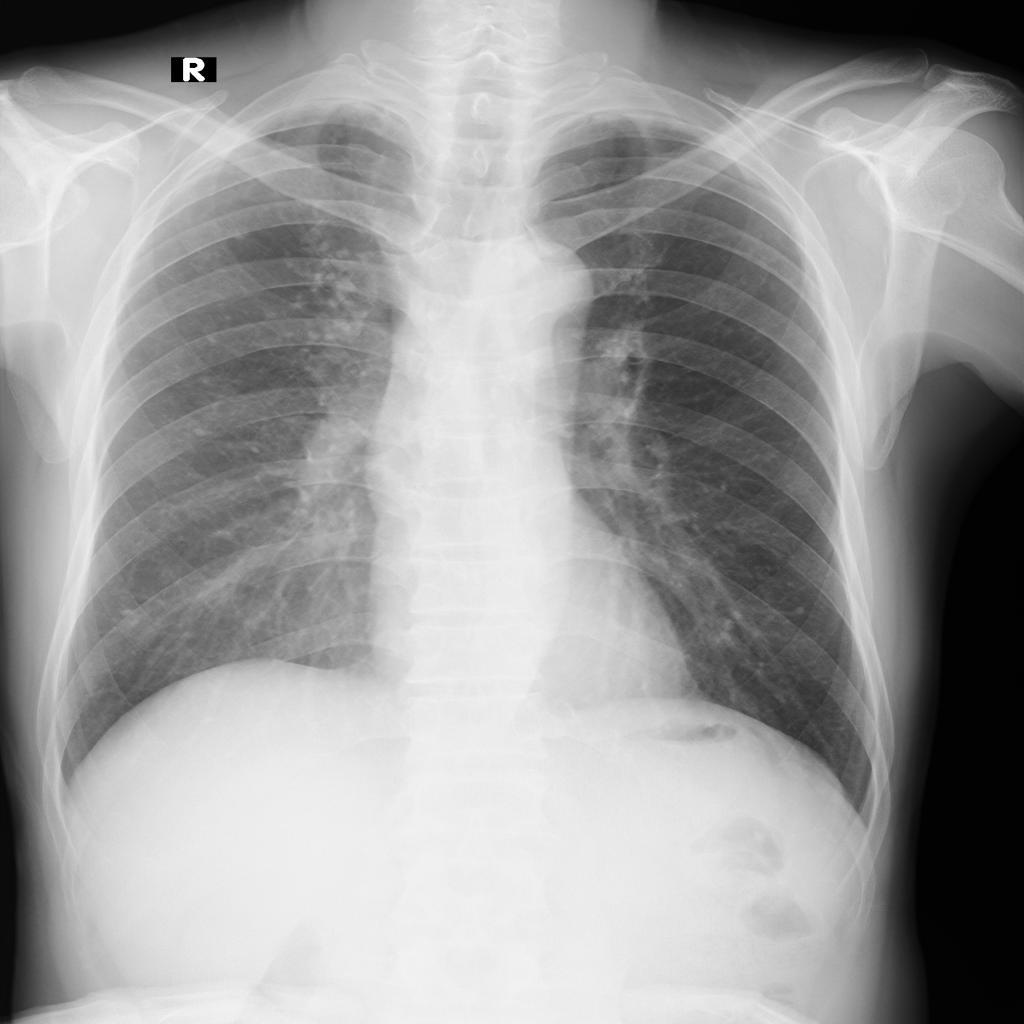Nodule: (292, 219, 380, 354)
